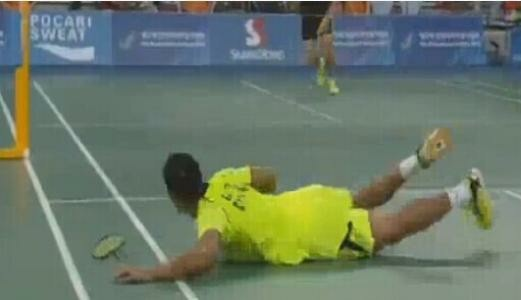falling: (116, 116, 500, 284)
